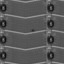dust: (31, 29, 35, 31)
